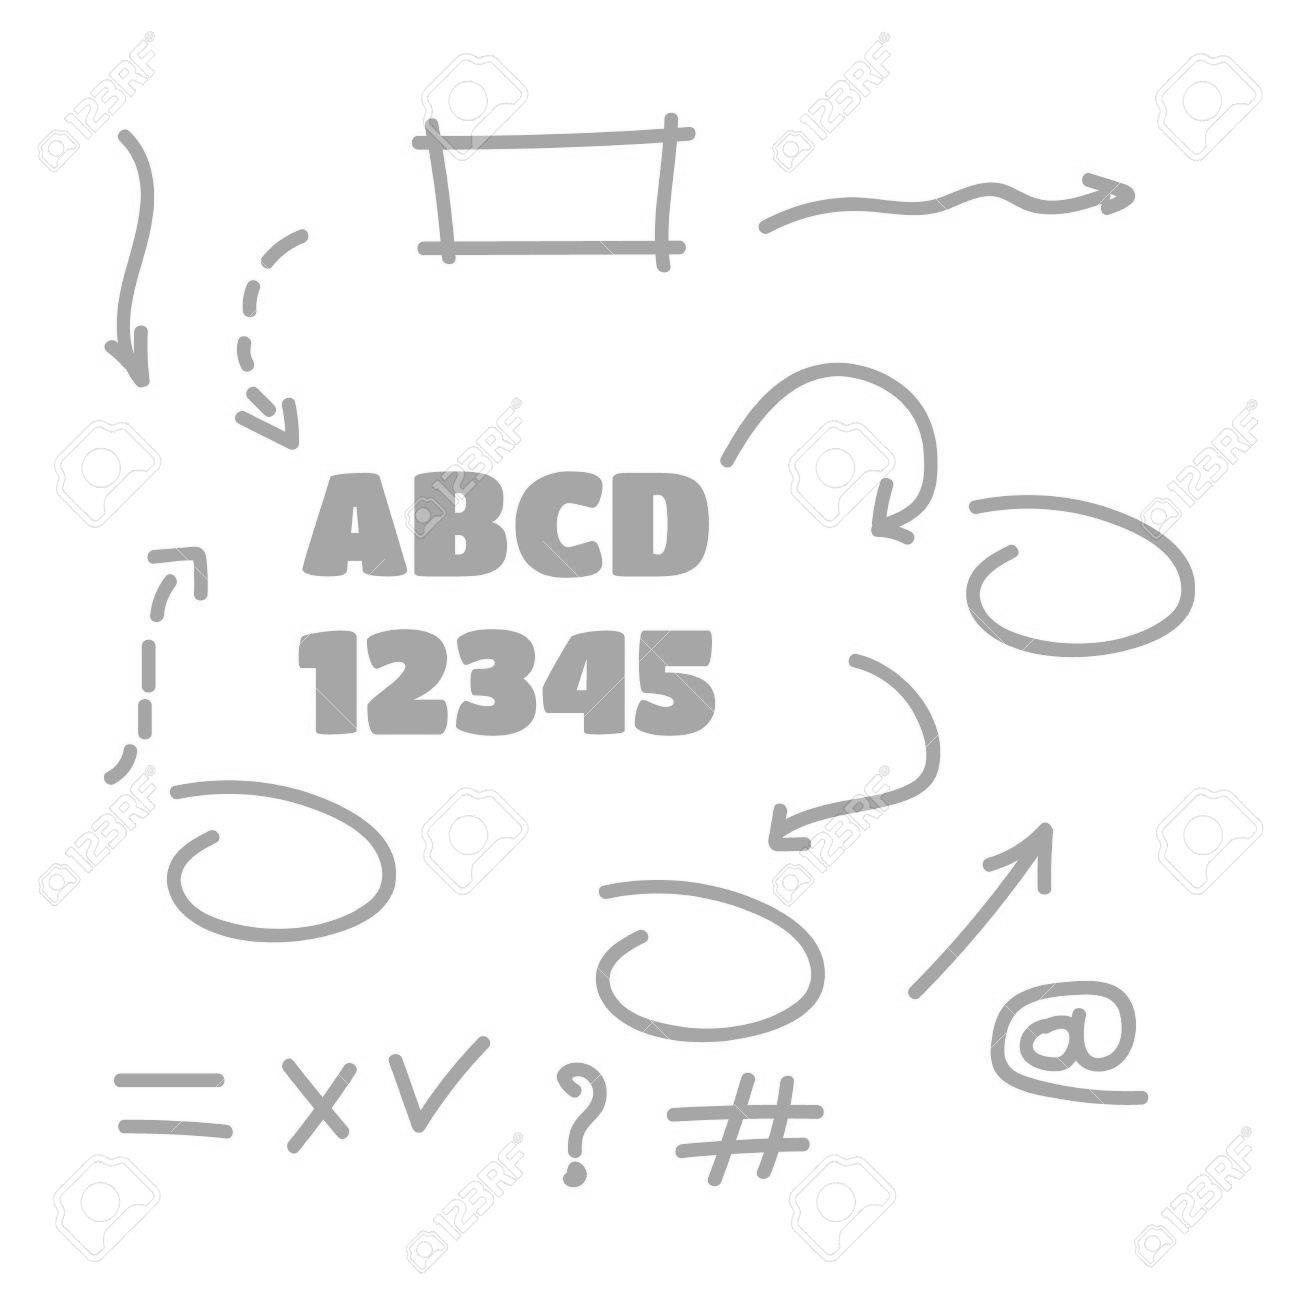arrow: (946, 814, 1068, 962), (118, 541, 222, 706), (854, 403, 955, 563), (758, 761, 912, 859), (203, 329, 310, 461), (95, 265, 167, 395), (1036, 161, 1147, 230)
